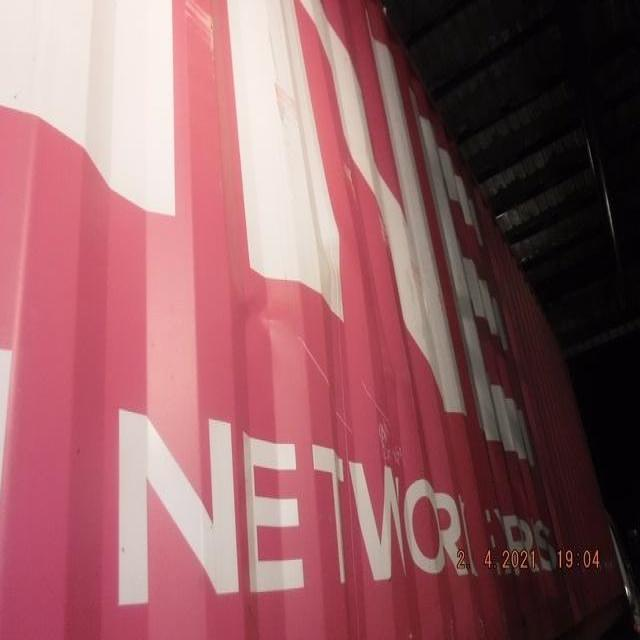dent: (219, 248, 350, 404)
